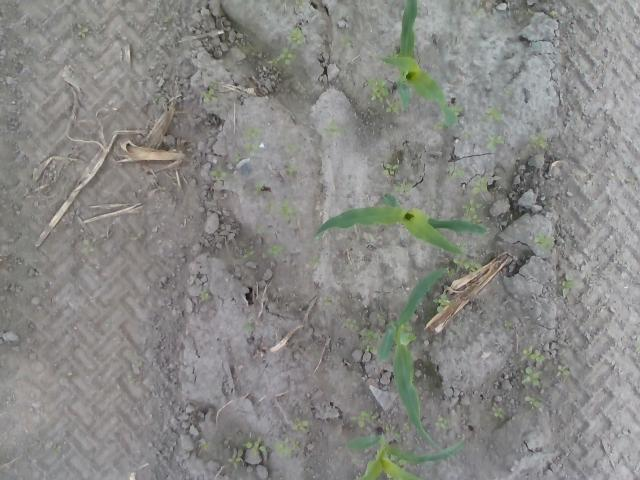Maize: (374, 264, 453, 464), (315, 194, 489, 262), (378, 0, 458, 129), (344, 428, 466, 480)
Weeds: (366, 77, 388, 105), (276, 199, 299, 223), (271, 441, 302, 457), (463, 198, 482, 224), (520, 346, 547, 363), (351, 409, 376, 427), (560, 270, 576, 298), (362, 329, 381, 352), (244, 128, 261, 152), (523, 366, 543, 386), (433, 290, 449, 312), (289, 29, 306, 49), (278, 46, 296, 64), (228, 446, 244, 466), (394, 181, 418, 194), (246, 440, 267, 454), (472, 176, 488, 194), (487, 136, 505, 152), (554, 364, 572, 378), (210, 168, 230, 180), (534, 234, 550, 249), (201, 88, 216, 104), (386, 98, 400, 114), (343, 316, 359, 330), (487, 108, 502, 122), (294, 418, 309, 432), (74, 23, 88, 38), (462, 262, 482, 272), (383, 162, 399, 174), (447, 166, 463, 178), (434, 416, 448, 429), (324, 124, 338, 137), (268, 244, 285, 254), (528, 398, 542, 410), (339, 36, 353, 48), (492, 407, 505, 419), (243, 248, 257, 259), (533, 136, 546, 146), (199, 291, 210, 302), (294, 0, 307, 9), (232, 152, 242, 162), (374, 313, 385, 322), (503, 319, 514, 328), (323, 296, 333, 305), (288, 165, 296, 176), (255, 182, 262, 192)
